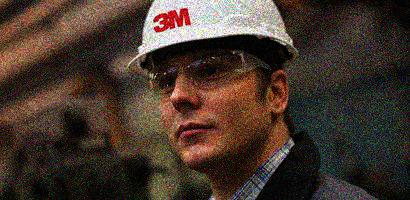helmet: (124, 1, 300, 170)
